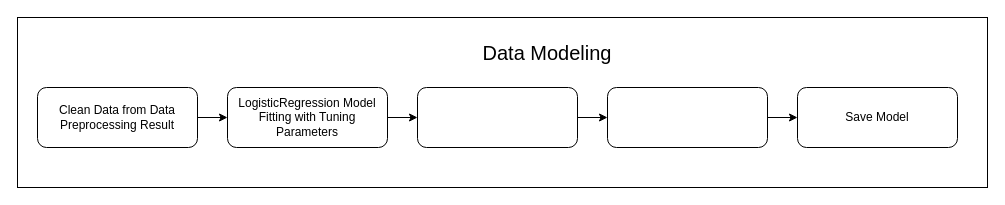
The diagram is 1005 pixels wide and 205 high, and some of its shapes have lost their labels. The centre of each missing label's shape, as x and y in pixels:
"Evaluation Metrics" belongs at pixel 497 117.
"Save Log Model" belongs at pixel 687 117.
